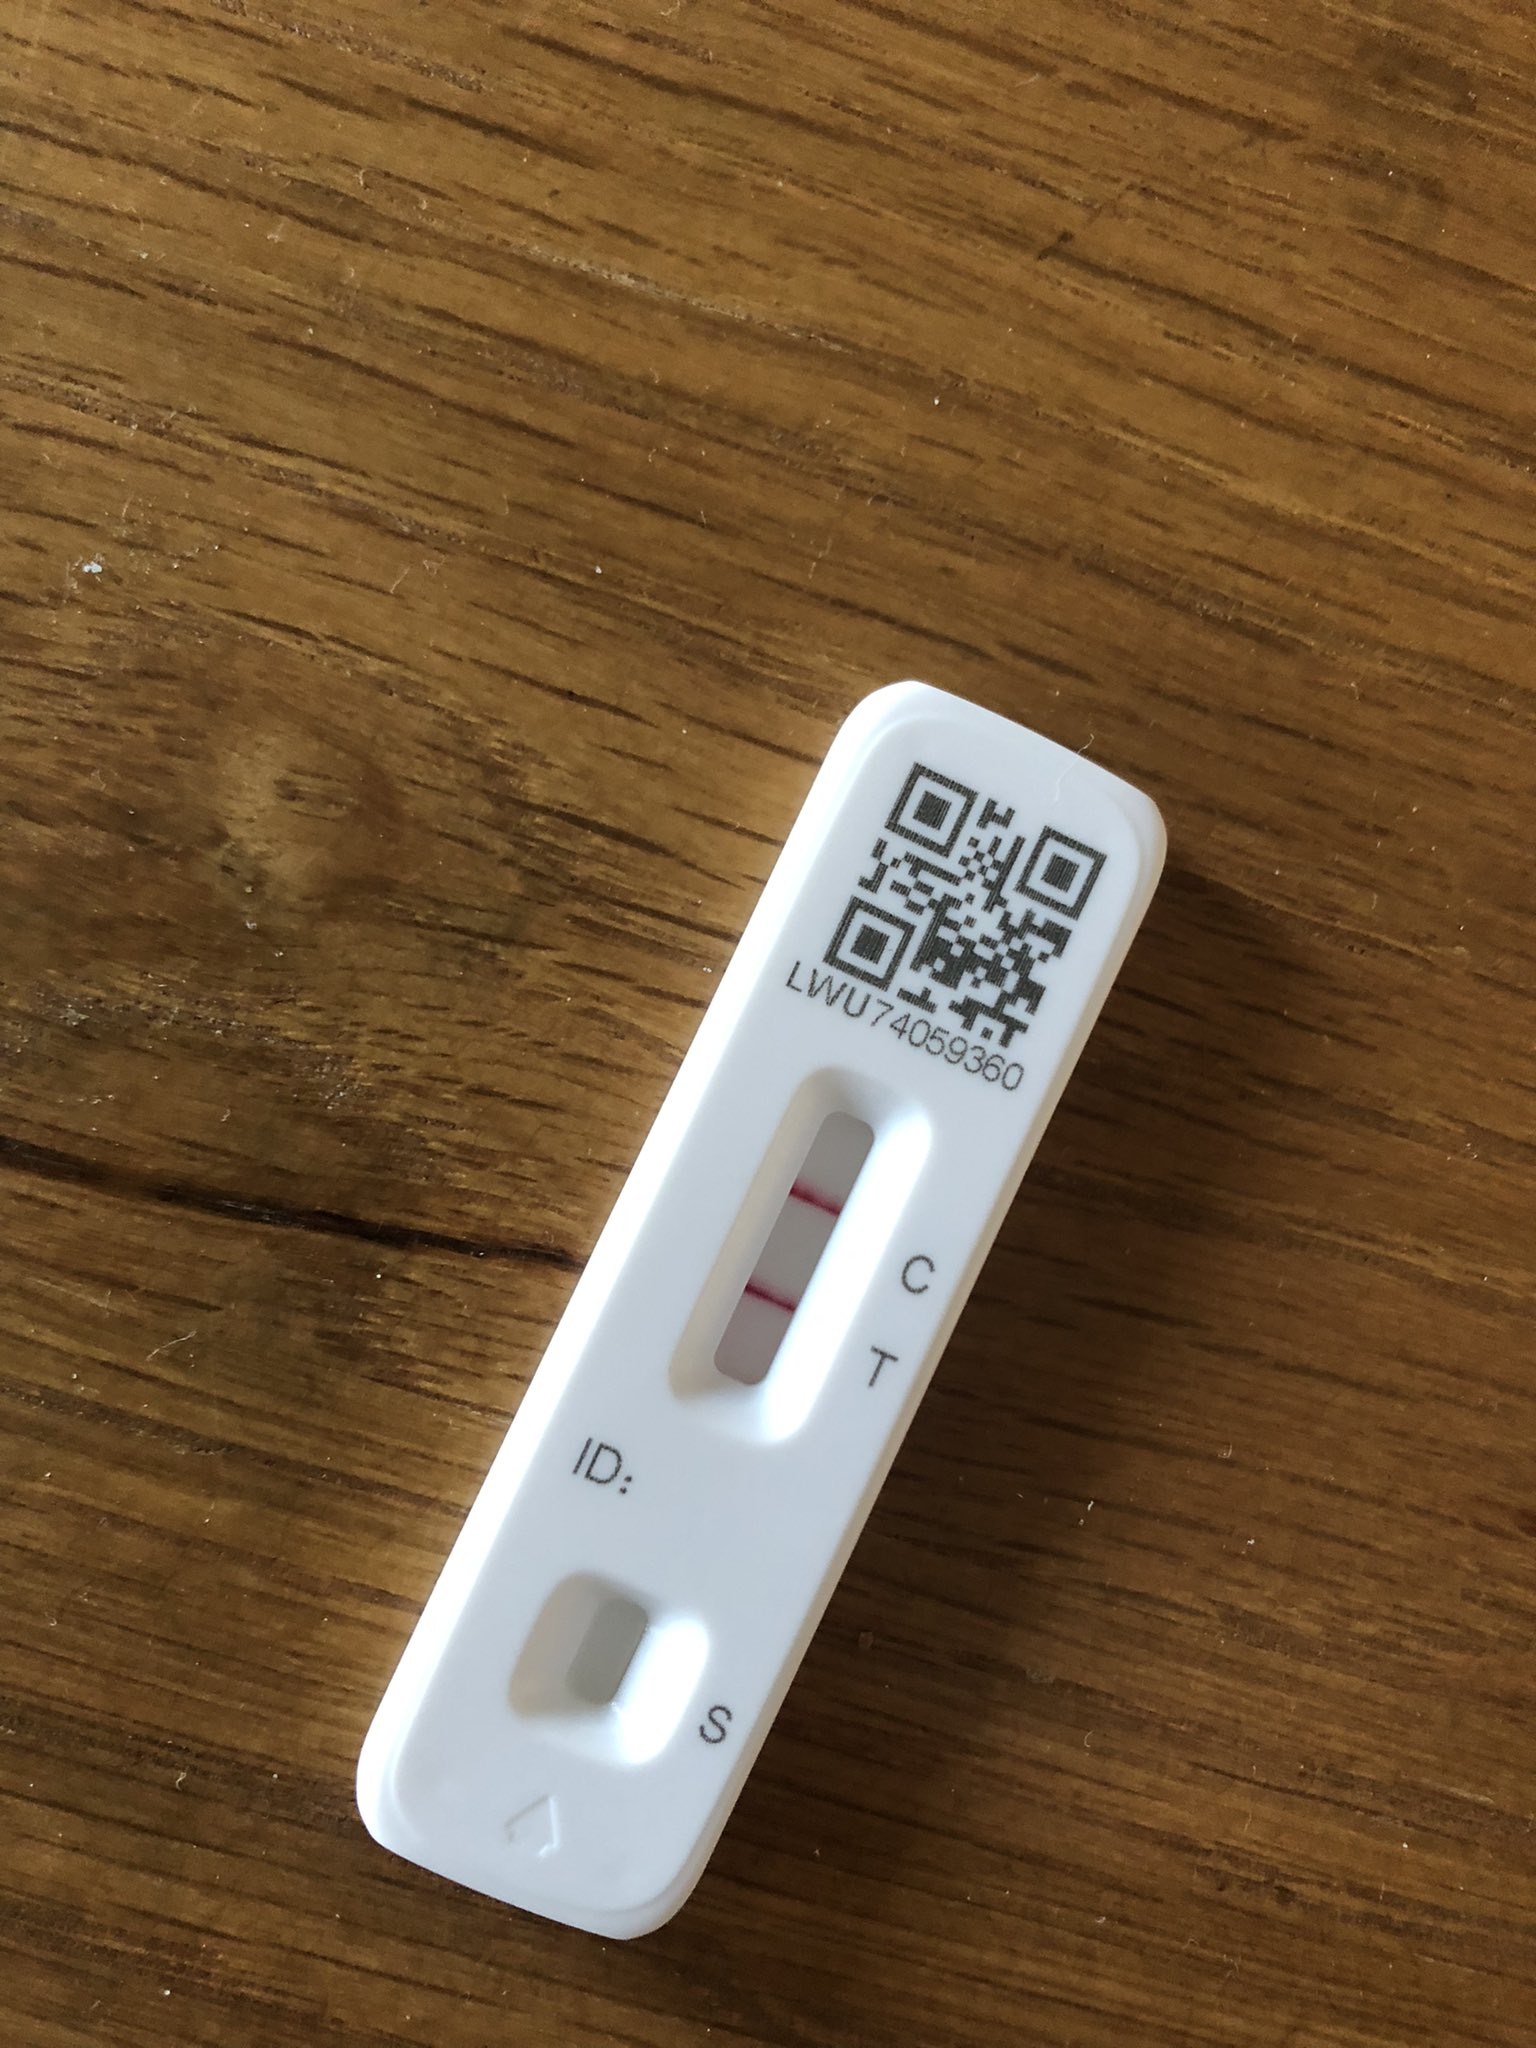positive: (720, 1093, 850, 1438)
